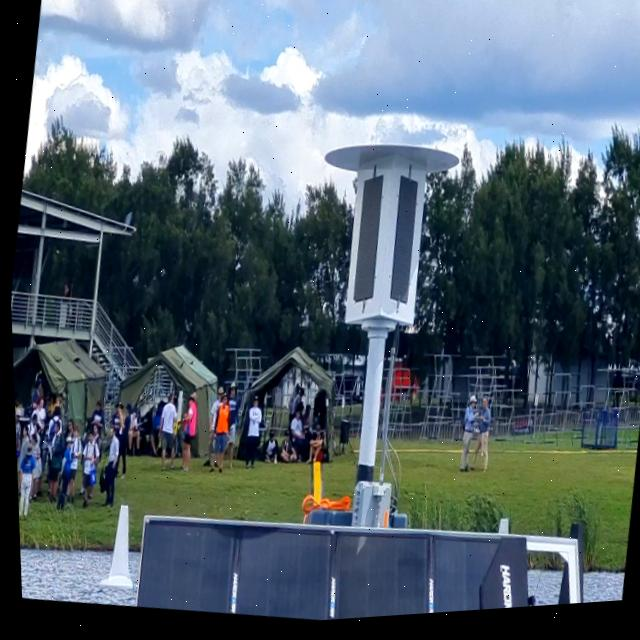led: (340, 167, 427, 324), (375, 169, 428, 318), (341, 169, 395, 315)
